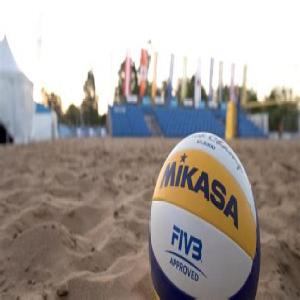Volley: (148, 130, 260, 300)
